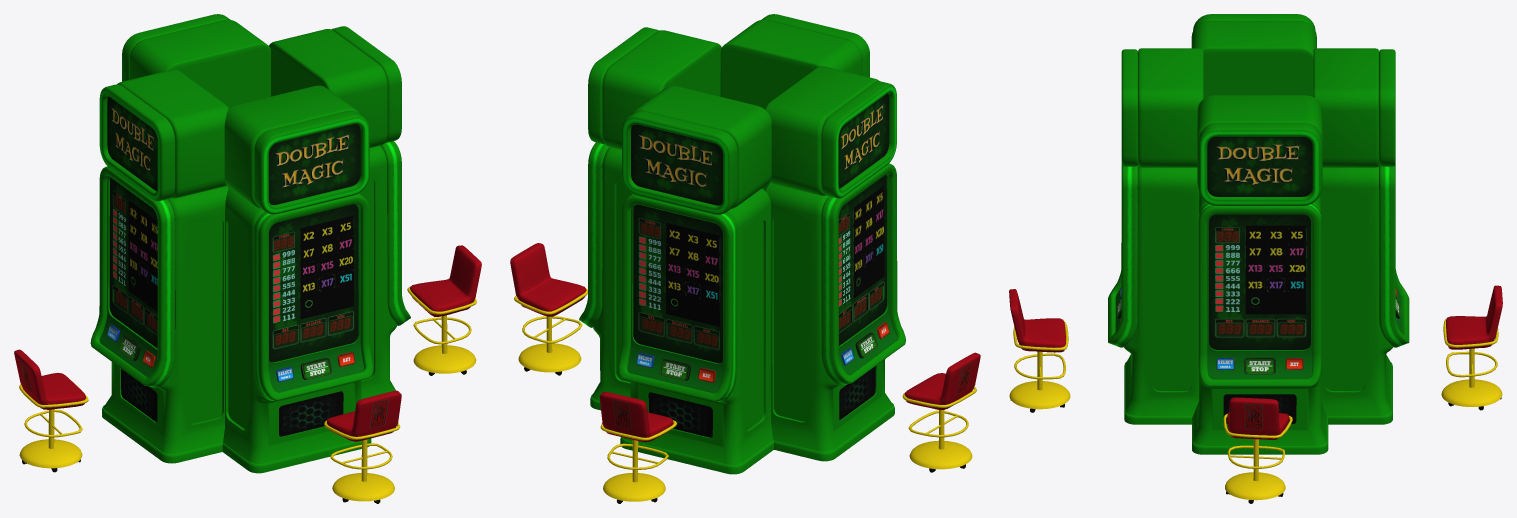
Rendered from DoubleMagicIsland.fbx.
3 views of the same model, side by side, from view 1: azimuth 30°, elevation 25°; view 2: azimuth 150°, elevation 25°; view 3: azimuth 270°, elevation 25° (orthographic). The views are drawn at different scales.
Parts seen in each view (by area): view 1: DoubleMagic.001, DoubleMagic.002, DoubleMagic.003, DoubleMagic, DoubleMagicSpriterTex.001, GameChair.063, GameChair.064, GameChair.065, DoubleMagicSpriterTex.002, DoubleMagicText.001, DoubleMagicText.002; view 2: DoubleMagic, DoubleMagic.002, DoubleMagic.003, DoubleMagic.001, GameChair.063, DoubleMagicSpriterTex.004, GameChair.062, GameChair.065, DoubleMagicSpriterTex.002, DoubleMagicText.004, DoubleMagicText.002; view 3: DoubleMagic.003, DoubleMagic.001, DoubleMagic, DoubleMagic.002, DoubleMagicSpriterTex.003, GameChair.063, GameChair.062, GameChair.064, DoubleMagicText.003.
Boxes of the visible parts, x1,y1,x2,y2 form: DoubleMagic.001: (222,85,372,473); DoubleMagic.002: (90,69,228,463); DoubleMagic.003: (269,26,410,399); DoubleMagic: (122,14,270,188); DoubleMagicSpriterTex.001: (300,215,353,319); GameChair.063: (407,245,481,375); GameChair.064: (324,390,401,503); GameChair.065: (14,349,88,472); DoubleMagicSpriterTex.002: (128,200,157,311); DoubleMagicText.001: (275,134,348,187); DoubleMagicText.002: (111,107,153,170); DoubleMagic: (618,85,773,474); DoubleMagic.002: (765,66,905,461); DoubleMagic.003: (579,27,721,410); DoubleMagic.001: (720,14,869,190); GameChair.063: (510,243,587,375); DoubleMagicSpriterTex.004: (666,223,719,326); GameChair.062: (599,392,676,503); GameChair.065: (902,352,980,472); DoubleMagicSpriterTex.002: (853,185,884,298); DoubleMagicText.004: (638,134,712,187); DoubleMagicText.002: (840,105,883,170); DoubleMagic.003: (1192,95,1328,454); DoubleMagic.001: (1108,48,1203,424); DoubleMagic: (1313,48,1409,424); DoubleMagic.002: (1191,14,1316,98); DoubleMagicSpriterTex.003: (1245,225,1306,314); GameChair.063: (1223,397,1292,503); GameChair.062: (1441,285,1502,410); GameChair.064: (1009,289,1070,412); DoubleMagicText.003: (1216,144,1299,185).
Size of the model in its own units: 480 by 345 by 469.
9 materials, 7 textured.
